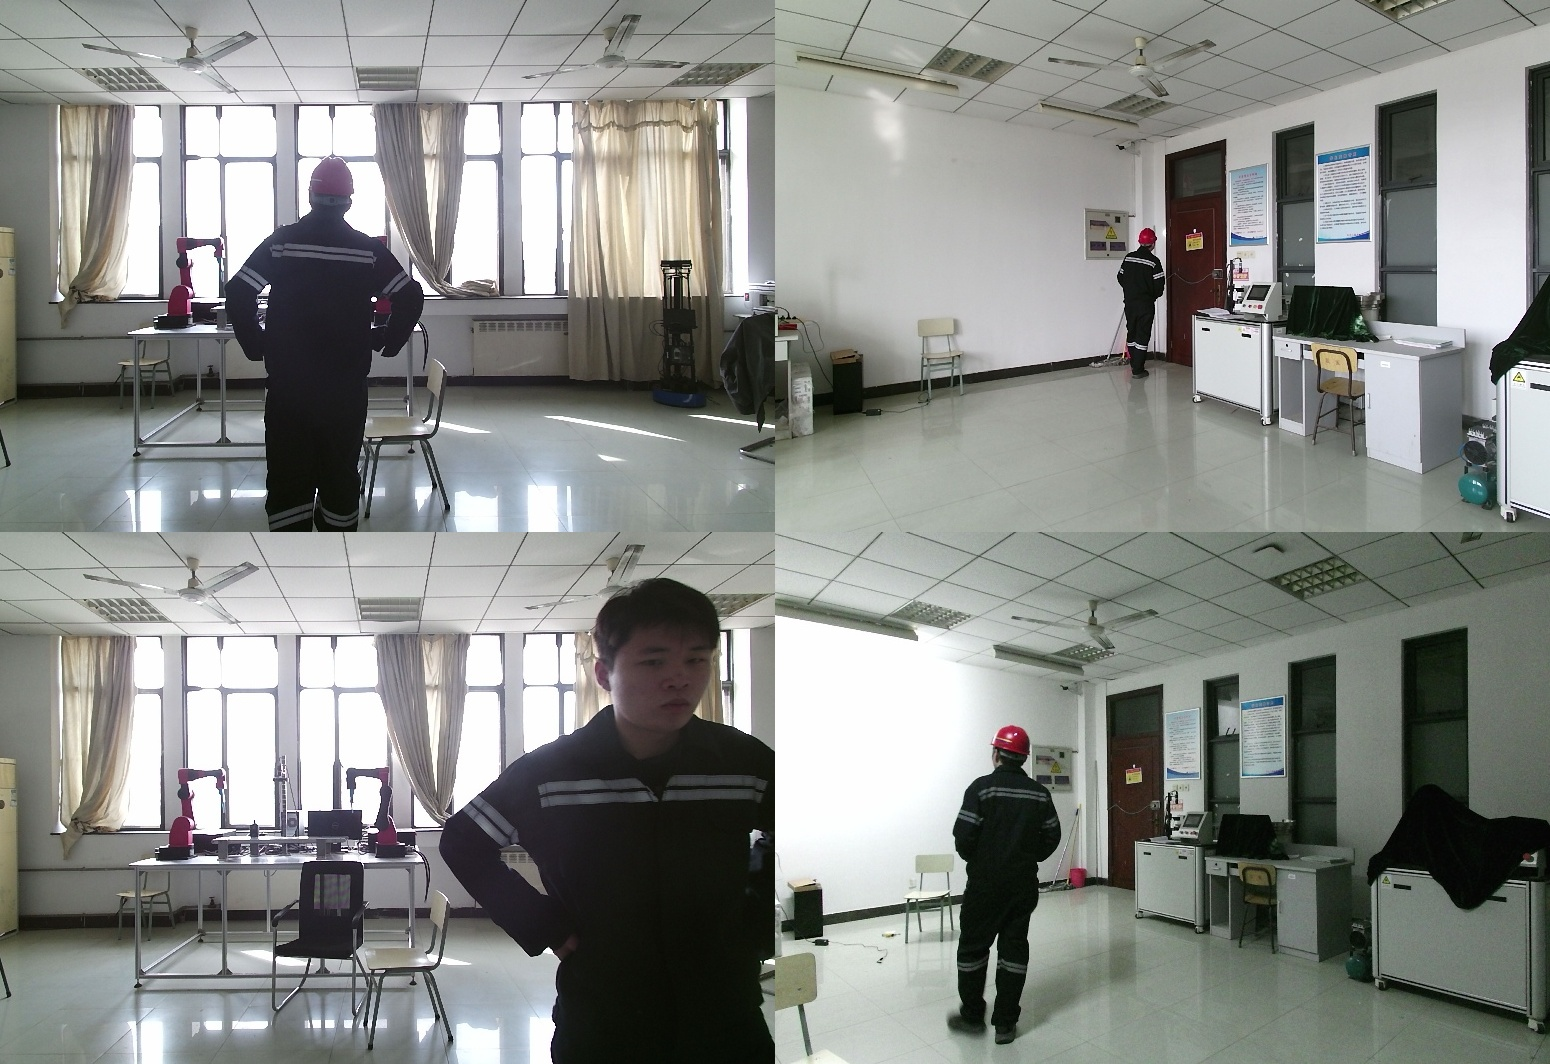person: (442, 581, 775, 1064), (225, 157, 441, 532), (955, 723, 1078, 1056), (1116, 229, 1165, 380)
